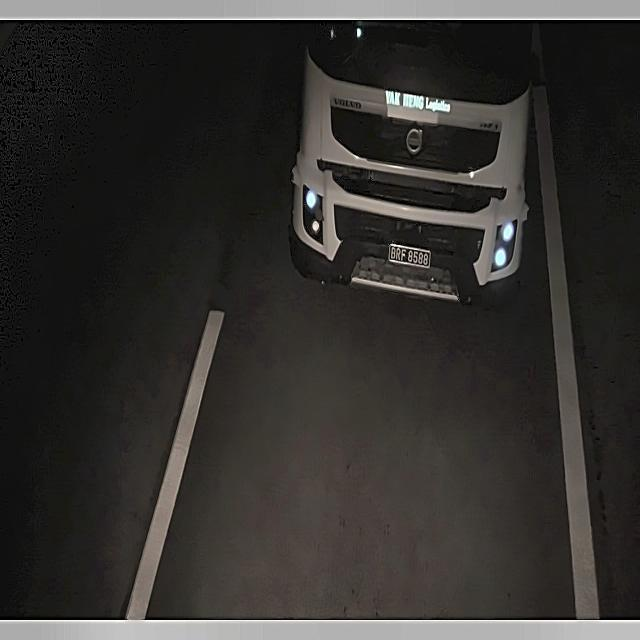car: (385, 238, 436, 276)
